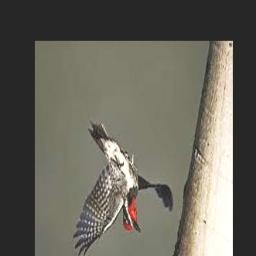Woodpecker: (73, 122, 172, 256)
